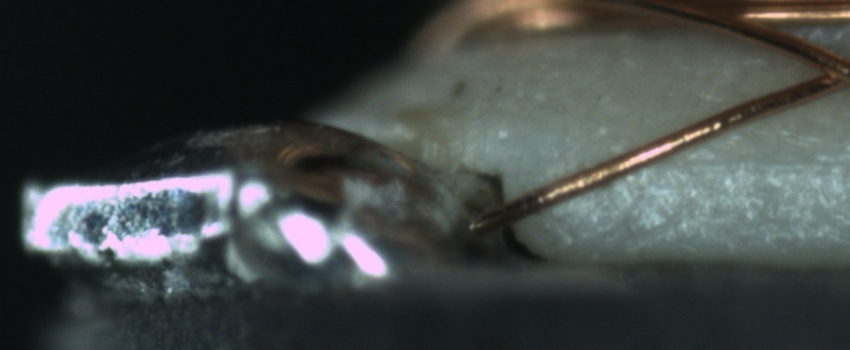CL: (795, 43, 849, 98)
DL: (631, 134, 850, 193)
